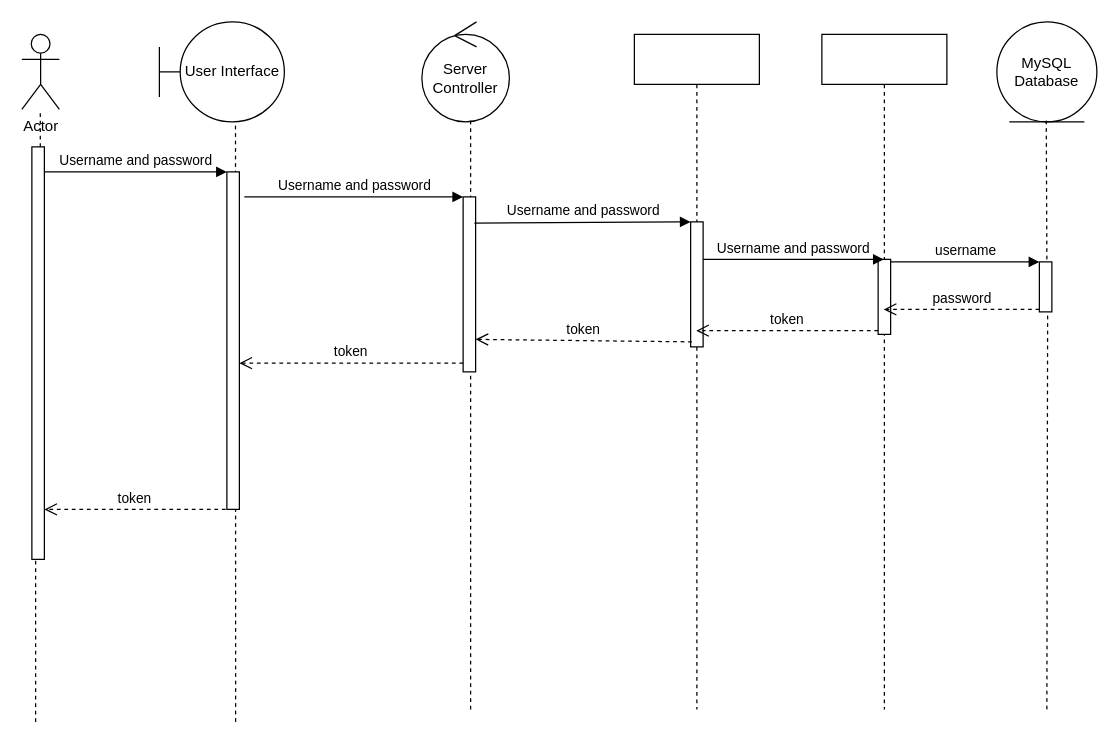
Some shapes in this 1119 by 745 pixel diagram are drawn without their labels. Here are the shapes that lost their labels. From the top down, the centre of each, then its label:
At (x=696, y=371): "Login".
At (x=884, y=371): "JWTAuthenticator".
